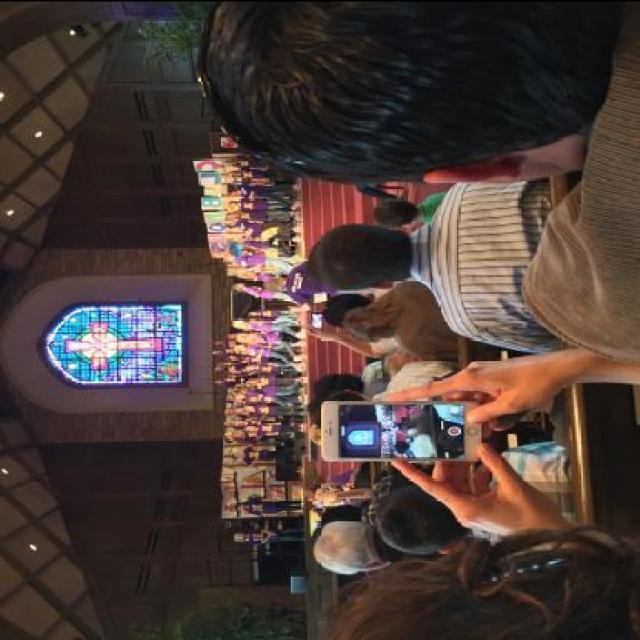phone: (318, 397, 484, 463), (308, 310, 324, 332), (314, 499, 326, 510)
